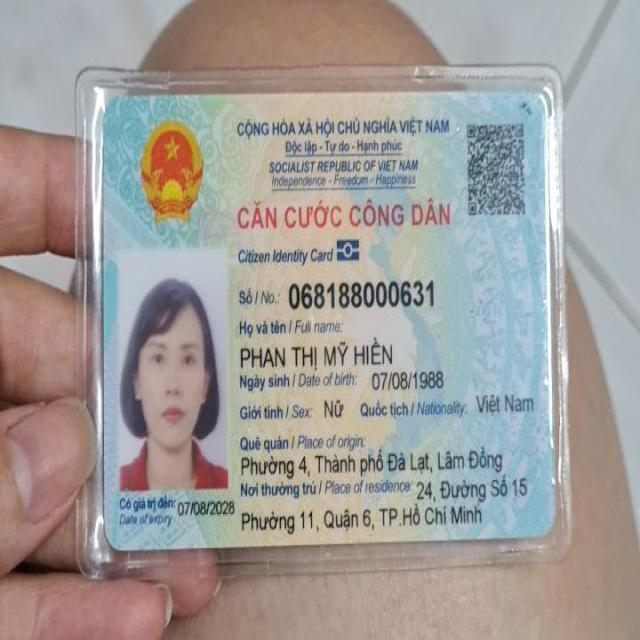bottom_left: (86, 519, 134, 566)
bottom_right: (526, 504, 568, 550)
image_person: (114, 250, 234, 492)
top_left: (87, 80, 140, 134)
top_right: (510, 74, 560, 129)
